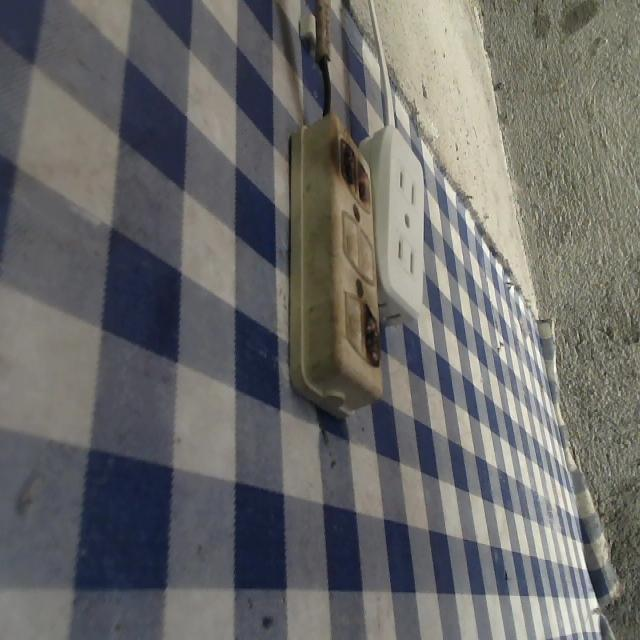-: (332, 135, 375, 205), (361, 298, 385, 371)
